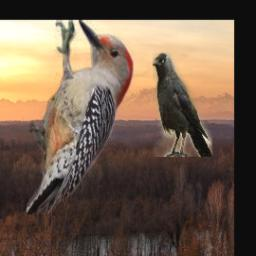Crow: (154, 54, 213, 158)
Woodpecker: (27, 20, 135, 214)
